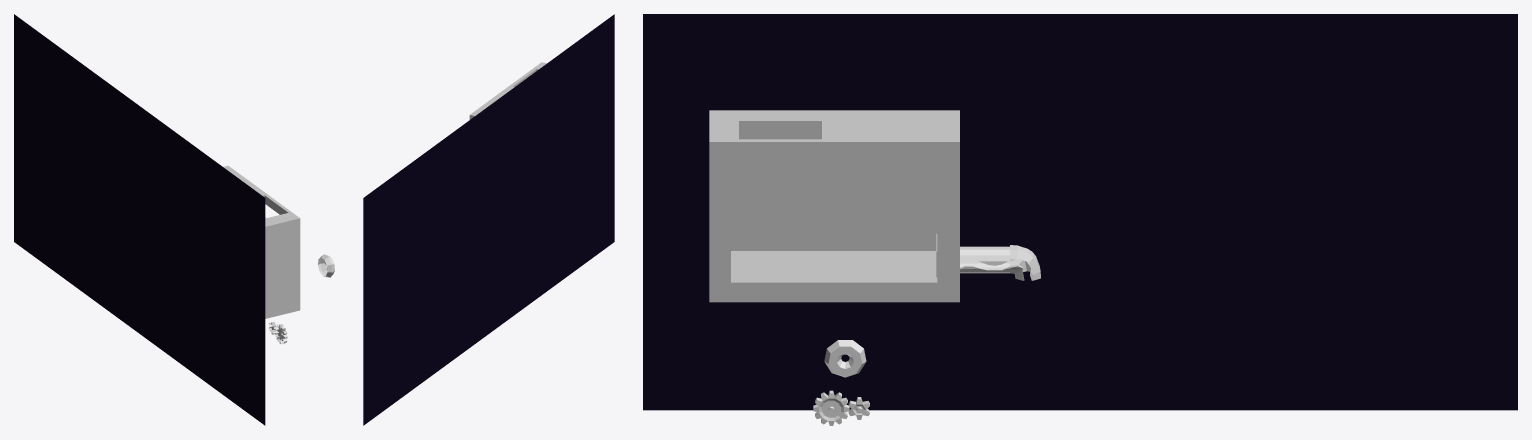
The model's file is level01.fbx.
3 views of the same model, side by side, from view 1: azimuth 30°, elevation 25°; view 2: azimuth 150°, elevation 25°; view 3: azimuth 270°, elevation 25° (orthographic). The views are drawn at different scales.
Visible parts, largest first — view 1: back_plane, room, Torus; view 2: back_plane, room; view 3: back_plane, room, pipe_I, Torus, gear12, pipe_L.
Boxes of the visible parts, x1,y1,x2,y2 form: back_plane: [14, 14, 265, 425]; room: [223, 165, 300, 318]; Torus: [318, 254, 334, 277]; back_plane: [363, 14, 614, 425]; room: [469, 62, 546, 119]; back_plane: [643, 14, 1517, 410]; room: [709, 110, 959, 302]; pipe_I: [960, 246, 1010, 273]; Torus: [824, 340, 866, 377]; gear12: [813, 390, 849, 425]; pipe_L: [1010, 245, 1040, 280].
Bounding box in the file's own units: 1922 × 3407 × 6814.
